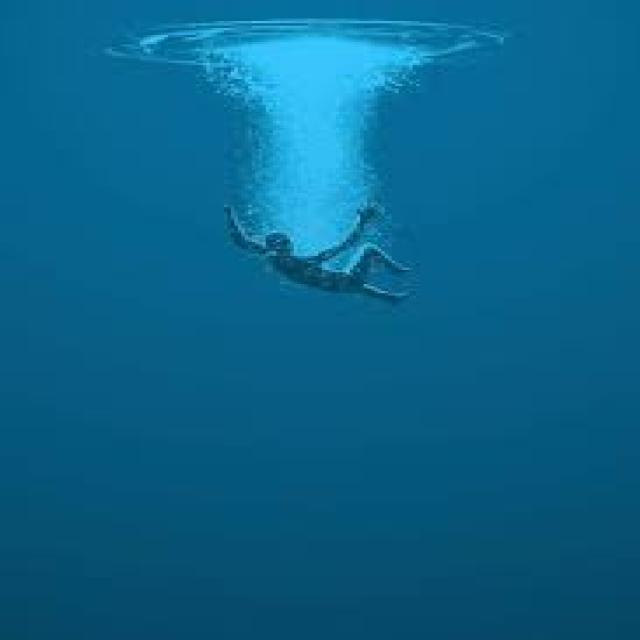Drowning: (210, 189, 415, 309)
